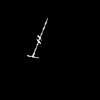treble_crochet: (28, 23, 45, 56)
